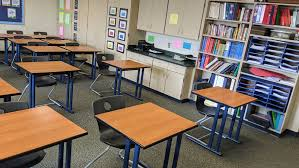desk: (94, 102, 199, 167), (0, 104, 87, 167), (190, 85, 258, 155), (14, 59, 82, 110), (100, 59, 152, 100), (60, 43, 103, 76), (22, 44, 68, 63)
